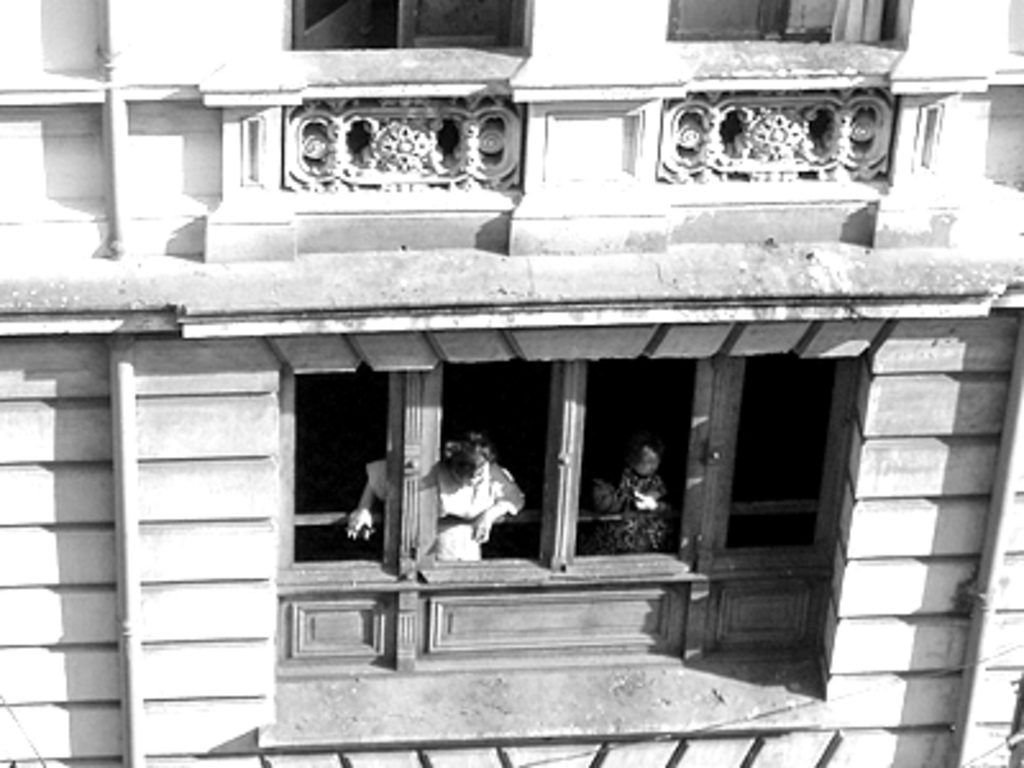Human_hand: (346, 507, 376, 543), (471, 512, 494, 543), (630, 489, 655, 509)
